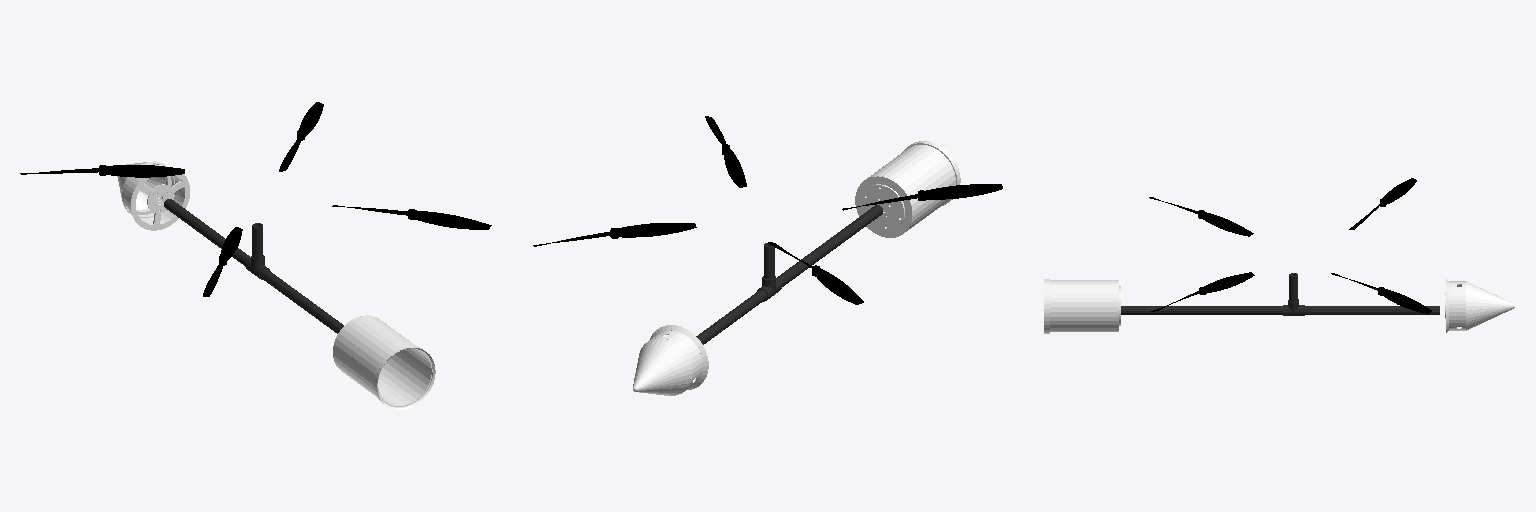
robot.urdf — airDocking6:
<?xml version="1.0" encoding="utf-8"?>
<!-- This URDF was automatically created by SolidWorks to URDF Exporter! Originally created by [author] ([email redacted]) 
     Commit Version: 1.6.0-1-g15f4949  Build Version: 1.6.7594.29634
     xyz="0.127718685482746 -0.139042615886204 0.0883635164726831"
     For more information, please see http://wiki.ros.org/sw_urdf_exporter -->
<robot
  name="airDocking6">
  <link
    name="base_link">
    <inertial>
      <origin
        xyz="0.00548302792620524 -0.00290479497045265 0.0544951992201632"
        rpy="0 0 0" />
      <mass
        value="1.911037040574895" />
      <inertia
        ixx="0.02"
        ixy="-4.90754358741268E-09"
        ixz="1.8018720691711E-08"
        iyy="0.02"
        iyz="-1.98788335056112E-08"
        izz="0.045" />
    </inertial>
    <visual>
      <origin
        xyz="0 0 0"
        rpy="0 0 0" />
      <geometry>
        <mesh
          filename="./obj/body_Link.obj" />
      </geometry>
      <material
        name="">
        <color
          rgba="1 1 1 1" />
      </material>
    </visual>
    <collision>
      <origin
        xyz="0 0 0"
        rpy="0 0 0" />
      <geometry>
        <mesh
          filename="./obj/body_Link.obj" />
      </geometry>
    </collision>
  </link>

  <link
    name="body_link">
    <inertial>
      <origin
        xyz="0. 0. 0."
        rpy="0 0 0" />
      <mass
        value="0.1" />
      <inertia
        ixx="0.0004"
        ixy="7.02103223113326E-12"
        ixz="-1.45980068820384E-11"
        iyy="0.06"
        iyz="-3.8820295471181E-11"
        izz="0.06" />
    </inertial>
    <visual>
      <origin
        xyz="0 0 0"
        rpy="0 0 0" />
      <geometry>
        <mesh
          filename="./obj/base_link.obj" />
      </geometry>
      <material
        name="">
        <color
          rgba="0.223529411764706 0.223529411764706 0.223529411764706 1" />
      </material>
    </visual>
    <collision>
      <origin
        xyz="0 0 0"
        rpy="0 0 0" />
      <geometry>
        <mesh
          filename="./obj/base_link.obj" />
      </geometry>
    </collision>
  </link>
  
  <joint
    name="body_joint"
    type="fixed">
    <origin
      xyz="-0.12042 0.11625 -0.11959"
      rpy="0 0 0" />
    <parent
      link="base_link" />
    <child
      link="body_link" />
    <axis
      xyz="0 0 0" />
  </joint>

  <link
    name="prop1_Link">
    <inertial>
      <origin
        xyz="5.45852847672057E-07 -4.81050333234201E-07 0.0113172497944415"
        rpy="0 0 0" />
      <mass
        value="0.0434134470816852" />
      <inertia
        ixx="6.85438118194511E-05"
        ixy="6.26117391341577E-05"
        ixz="-1.07961455894735E-11"
        iyy="5.88476484364724E-05"
        iyz="2.78036452516803E-11"
        izz="0.000126622157642998" />
    </inertial>
    <visual>
      <origin
        xyz="0 0 0"
        rpy="0 0 0" />
      <geometry>
        <mesh
          filename="./obj/prop1_Link.obj" />
      </geometry>
      <material
        name="">
        <color
          rgba="0 0 0 1" />
      </material>
    </visual>
    <collision>
      <origin
        xyz="0 0 0"
        rpy="0 0 0" />
      <geometry>
        <mesh
          filename="./obj/prop1_Link.obj" />
      </geometry>
    </collision>
  </link>
  <joint
    name="prop_joint1"
    type="continuous">
    <origin
      xyz="0.16612 -0.16366 0.085006"
      rpy="0 0 0" />
    <parent
      link="base_link" />
    <child
      link="prop1_Link" />
    <axis
      xyz="0 0 1" />
  </joint>
  <link
    name="prop2_Link">
    <inertial>
      <origin
        xyz="-8.71041495431601E-07 -1.30447378648979E-06 0.00881709864646676"
        rpy="0 0 0" />
      <mass
        value="0.043411107701819" />
      <inertia
        ixx="7.36711907112284E-05"
        ixy="-6.1998302229042E-05"
        ixz="3.84200896495854E-11"
        iyy="5.37141893317674E-05"
        iyz="1.01273023321896E-10"
        izz="0.000126616115137962" />
    </inertial>
    <visual>
      <origin
        xyz="0 0 0"
        rpy="0 0 0" />
      <geometry>
        <mesh
          filename="./obj/prop2_Link.obj" />
      </geometry>
      <material
        name="">
        <color
          rgba="0 0 0 1" />
      </material>
    </visual>
    <collision>
      <origin
        xyz="0 0 0"
        rpy="0 0 0" />
      <geometry>
        <mesh
          filename="./obj/prop2_Link.obj" />
      </geometry>
    </collision>
  </link>
  <joint
    name="prop_joint2"
    type="continuous">
    <origin
      xyz="-0.15192 -0.16503 0.087506"
      rpy="0 0 0" />
    <parent
      link="base_link" />
    <child
      link="prop2_Link" />
    <axis
      xyz="0 0 1" />
  </joint>
  <link
    name="prop3_Link">
    <inertial>
      <origin
        xyz="0.00821496710511732 -0.00218875966969181 0.00723140822480168"
        rpy="0 0 0" />
      <mass
        value="0.0434110721971107" />
      <inertia
        ixx="2.66958783202139E-05"
        ixy="5.07414097535697E-05"
        ixz="-1.12217578272378E-10"
        iyy="0.000100693176122286"
        iyz="2.25117944200145E-11"
        izz="0.000126619799321776" />
    </inertial>
    <visual>
      <origin
        xyz="0 0 0"
        rpy="0 0 0" />
      <geometry>
        <mesh
          filename="./obj/prop3_Link.obj" />
      </geometry>
      <material
        name="">
        <color
          rgba="0 0 0 1" />
      </material>
    </visual>
    <collision>
      <origin
        xyz="0 0 0"
        rpy="0 0 0" />
      <geometry>
        <mesh
          filename="./obj/prop3_Link.obj" />
      </geometry>
    </collision>
  </link>
  <joint
    name="prop_joint3"
    type="continuous">
    <origin
      xyz="-0.16124 0.15818 0.089091"
      rpy="0 0 0" />
    <parent
      link="base_link" />
    <child
      link="prop3_Link" />
    <axis
      xyz="0 0 1" />
  </joint>
  <link
    name="prop4_Link">
    <inertial>
      <origin
        xyz="-7.63029578021435E-07 -1.16179845374709E-06 0.0113171260055646"
        rpy="0 0 0" />
      <mass
        value="0.0434117418859216" />
      <inertia
        ixx="6.96185872190908E-05"
        ixy="-6.25190062101873E-05"
        ixz="8.71679455675114E-11"
        iyy="5.77723828725331E-05"
        iyz="1.1416921055519E-10"
        izz="0.00012662170891755" />
    </inertial>
    <visual>
      <origin
        xyz="0 0 0"
        rpy="0 0 0" />
      <geometry>
        <mesh
          filename="./obj/prop4_Link.obj" />
      </geometry>
      <material
        name="">
        <color
          rgba="0 0 0 1" />
      </material>
    </visual>
    <collision>
      <origin
        xyz="0 0 0"
        rpy="0 0 0" />
      <geometry>
        <mesh
          filename="./obj/prop4_Link.obj" />
      </geometry>
    </collision>
  </link>
  <joint
    name="prop_joint4"
    type="continuous">
    <origin
      xyz="0.16637 0.15574 0.085006"
      rpy="0 0 0" />
    <parent
      link="base_link" />
    <child
      link="prop4_Link" />
    <axis
      xyz="0 0 1" />
  </joint>
  <link
    name="tip_Link">
    <inertial>
      <origin
        xyz="-4.6603451341054E-09 0.0359318967356096 2.90928610369168E-09"
        rpy="0 0 0" />
      <mass
        value="0.2" />
      <inertia
        ixx="7.80533366854298E-05"
        ixy="-4.00057962557678E-12"
        ixz="1.52455443700944E-11"
        iyy="9.97620480021254E-05"
        iyz="-7.60948845685672E-12"
        izz="7.80533112236765E-05" />
    </inertial>
    <visual>
      <origin
        xyz="0 0 0"
        rpy="0 0 0" />
      <geometry>
        <mesh
          filename="./obj/tip_Link.obj" />
      </geometry>
      <material
        name="">
        <color
          rgba="1 1 1 1" />
      </material>
    </visual>
    <collision>
      <origin
        xyz="0 0 0"
        rpy="0 0 0" />
      <geometry>
        <mesh
          filename="./obj/tip_Link.obj" />
      </geometry>
      <material name="">
        <contact name="2Al2"/>
      </material>
    </collision>
  </link>
  <joint
    name="tip_joint"
    type="fixed">
    <origin
      xyz="0.0 0.27 -0.03"
      rpy="0 0 0" />
    <parent
      link="base_link" />
    <child
      link="tip_Link" />
    <axis
      xyz="0 0 0" />
  </joint>
  <link
    name="cy_Link">
    <inertial>
      <origin
        xyz="-1.694755794035E-11 -0.0487045284447744 1.38777878078145E-17"
        rpy="0 0 0" />
      <mass
        value="0.2" />
      <inertia
        ixx="0.000198213952562773"
        ixy="-8.79674804479733E-16"
        ixz="9.19348423888508E-20"
        iyy="0.000195686369099378"
        iyz="-8.23409343102761E-20"
        izz="0.000298213952562773" />
    </inertial>
    <visual>
      <origin
        xyz="0 0 0"
        rpy="0 0 0" />
      <geometry>
        <mesh
          filename="./obj/cy_Link.obj" />
      </geometry>
      <material
        name="">
        <color
          rgba="1 1 1 1" />
      </material>
    </visual>
    <collision>
      <origin
        xyz="0 0 0"
        rpy="0 0 0" />
      <geometry>
        <mesh
          filename="./obj/cy_Link.obj" />
      </geometry>
      <material name="">
        <contact name="2Al2"/>
      </material>
    </collision>
  </link>
  <joint
    name="cy_joint"
    type="fixed">
    <origin
      xyz="0.0 -0.31 -0.03"
      rpy="0 0 0" />
    <parent
      link="base_link" />
    <child
      link="cy_Link" />
    <axis
      xyz="0 0 0" />
  </joint>
</robot>

--- Render facts (derived) ---
3 views of the same robot in one strip: view 1: azimuth 30°, elevation 25°; view 2: azimuth 150°, elevation 25°; view 3: azimuth 270°, elevation 25° (orthographic).
Robot: airDocking6 — 8 links, 7 joints (4 continuous, 3 fixed); root link base_link; default pose: every joint at zero.
Links seen in each view (by area): view 1: cy_Link, tip_Link, body_link, prop3_Link, prop1_Link, prop4_Link, prop2_Link; view 2: cy_Link, tip_Link, body_link, prop2_Link, prop4_Link, prop3_Link, prop1_Link; view 3: cy_Link, body_link, tip_Link, prop2_Link, prop4_Link, prop1_Link.
Boxes of the visible links, x1,y1,x2,y2 form: cy_Link: [333, 315, 435, 409]; tip_Link: [117, 161, 189, 230]; body_link: [164, 199, 343, 333]; prop3_Link: [20, 165, 184, 177]; prop1_Link: [332, 205, 491, 229]; prop4_Link: [279, 102, 323, 171]; prop2_Link: [203, 227, 242, 296]; cy_Link: [855, 141, 960, 237]; tip_Link: [633, 325, 708, 395]; body_link: [696, 205, 882, 344]; prop2_Link: [842, 184, 1002, 210]; prop4_Link: [533, 223, 696, 246]; prop3_Link: [768, 242, 863, 304]; prop1_Link: [705, 116, 746, 187]; cy_Link: [1044, 279, 1120, 333]; body_link: [1121, 273, 1439, 315]; tip_Link: [1445, 279, 1514, 332]; prop2_Link: [1149, 197, 1253, 236]; prop4_Link: [1331, 273, 1431, 313]; prop1_Link: [1151, 272, 1254, 311].
Bounding box of the posed robot: 0.5265 × 0.8405 × 0.184 m (x, y, z).
Meshes: 8 distinct files referenced, 7 mesh visuals loaded (7 OBJ); not drawn: 1 (reference not matched to a file when rendering).